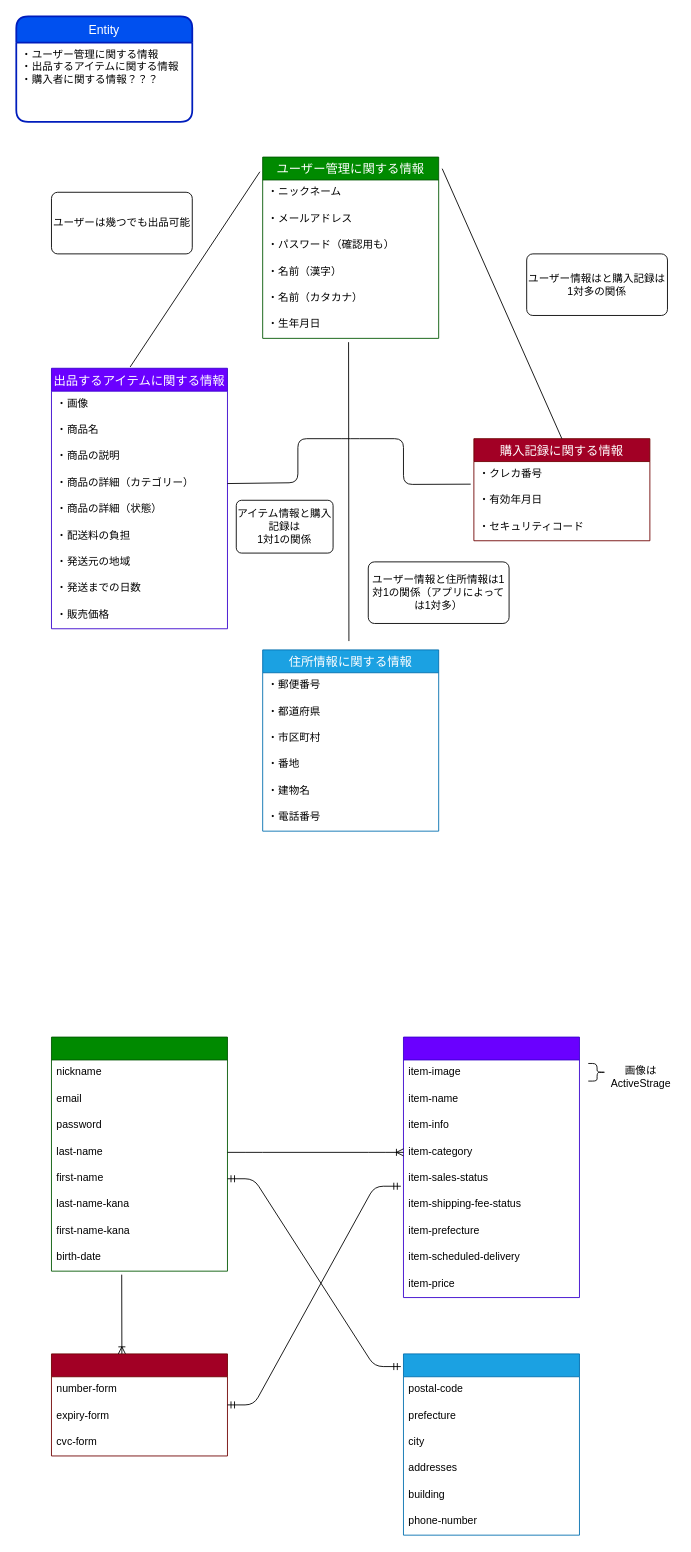
Image size: 691x1552. Some labels were removed from this diagram. Each missing label, with the box of its shape:
Items Table: (403, 1036, 579, 1298)
Orders Table: (51, 1353, 227, 1456)
Shipping infomation Table: (403, 1353, 579, 1535)
Users Table: (51, 1036, 227, 1271)
